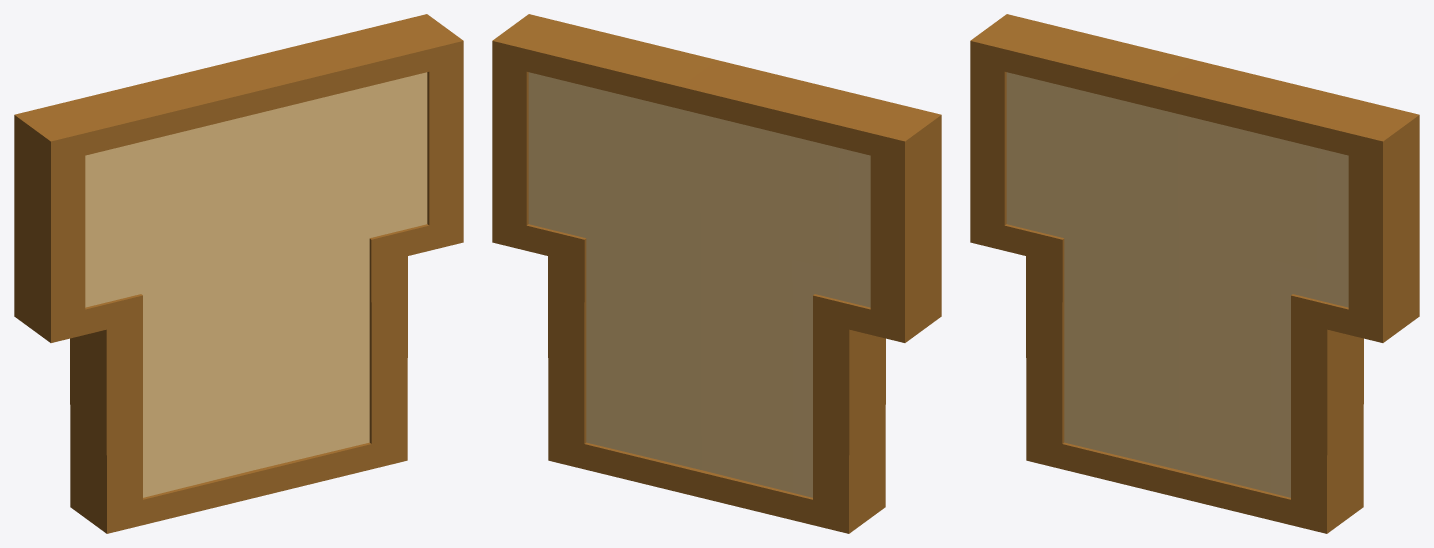
The model's file is toast_voxel.fbx.
The picture shows the model from 3 angles, left to right: view 1: azimuth 30°, elevation 25°; view 2: azimuth 150°, elevation 25°; view 3: azimuth 330°, elevation 25°; orthographic projection.
Parts seen in each view (by area): view 1: Indside, Outside; view 2: Indside, Outside; view 3: Indside, Outside.
Boxes of the visible parts, x1=… form: Indside: x1=85, y1=72, x2=427, y2=497; Outside: x1=14, y1=14, x2=463, y2=533; Indside: x1=528, y1=72, x2=870, y2=497; Outside: x1=492, y1=14, x2=941, y2=533; Indside: x1=1006, y1=72, x2=1348, y2=497; Outside: x1=970, y1=14, x2=1419, y2=533.
Size of the model in its own units: 98.6 by 92.68 by 15.15.
